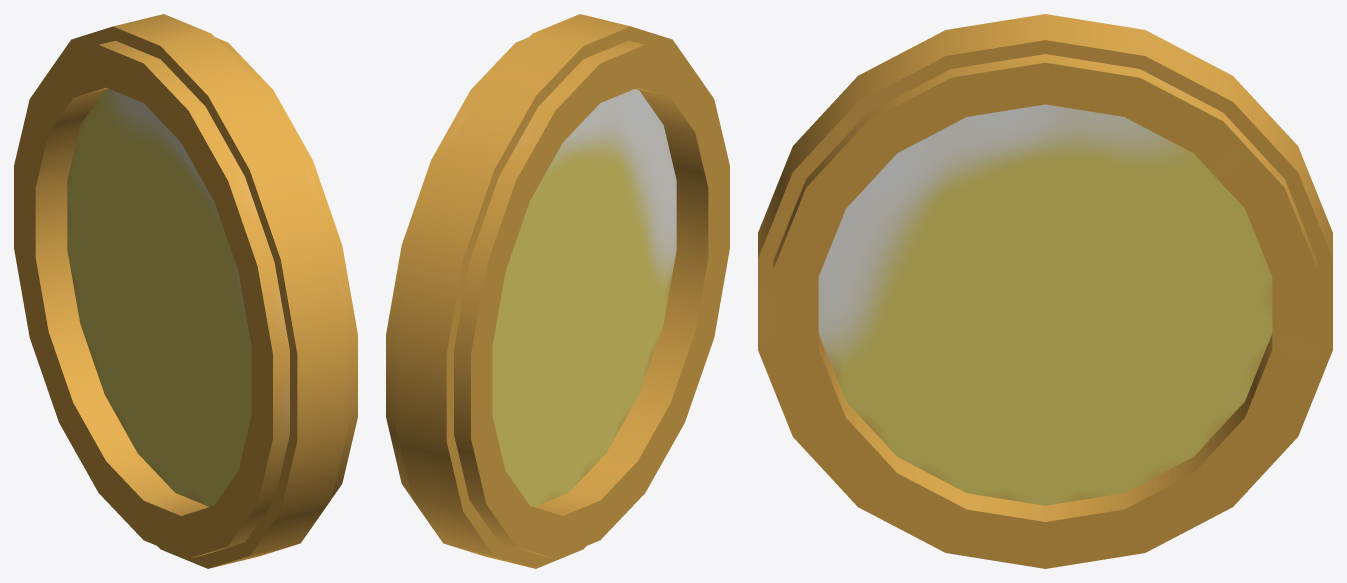
The model's file is coin.fbx.
The picture shows the model from 3 angles, left to right: view 1: azimuth 30°, elevation 25°; view 2: azimuth 150°, elevation 25°; view 3: azimuth 270°, elevation 25°; orthographic projection. The views are drawn at different scales.
Parts seen in each view (by area): view 1: Cylinder001; view 2: Cylinder001; view 3: Cylinder001.
Boxes of the visible parts, box(x1,y1,x2,y2) form: Cylinder001: box(14, 14, 357, 568); Cylinder001: box(386, 14, 729, 568); Cylinder001: box(758, 14, 1332, 568).
Size of the model in its own units: 0.0208 by 0.1182 by 0.1164.
